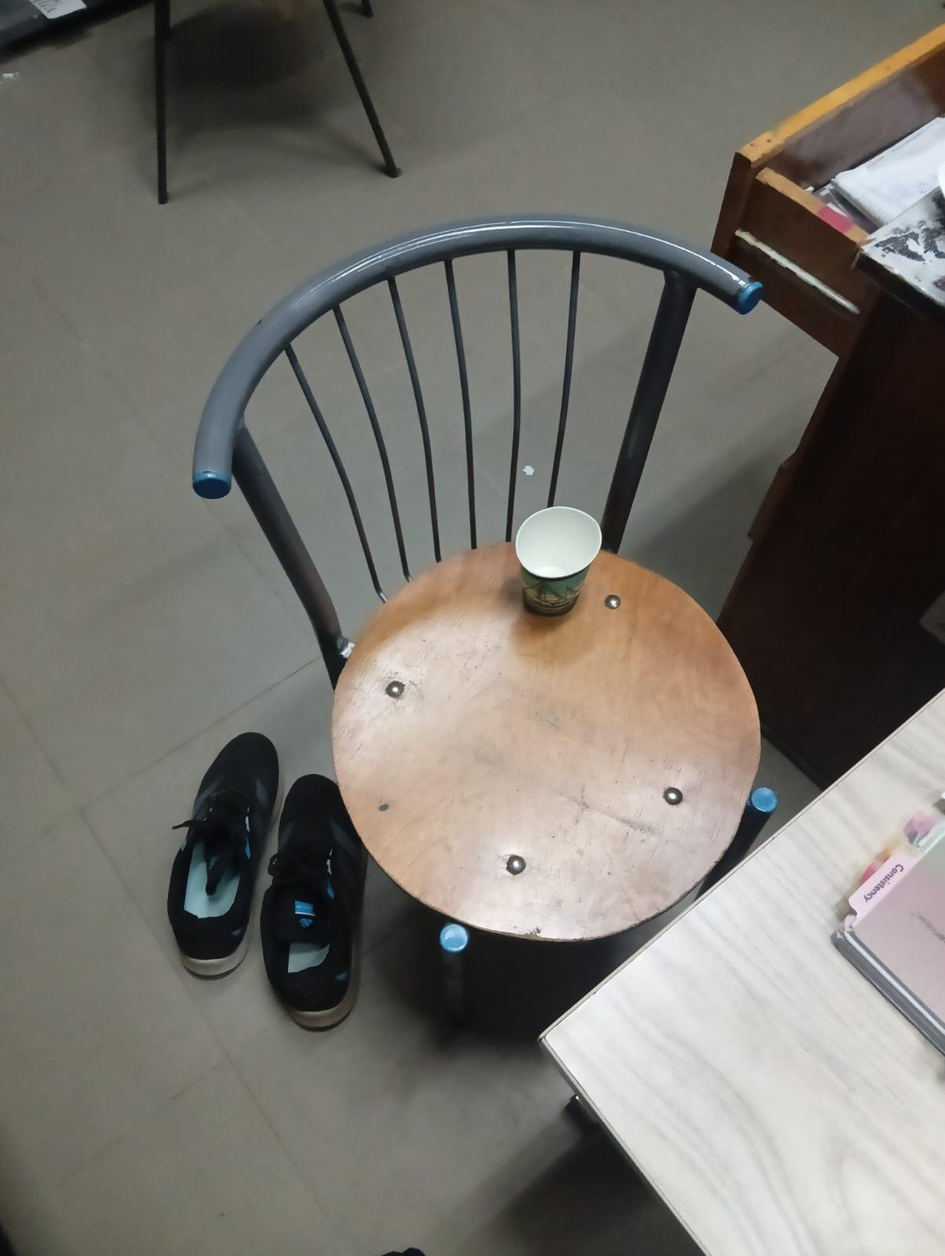cup: (515, 507, 601, 615)
